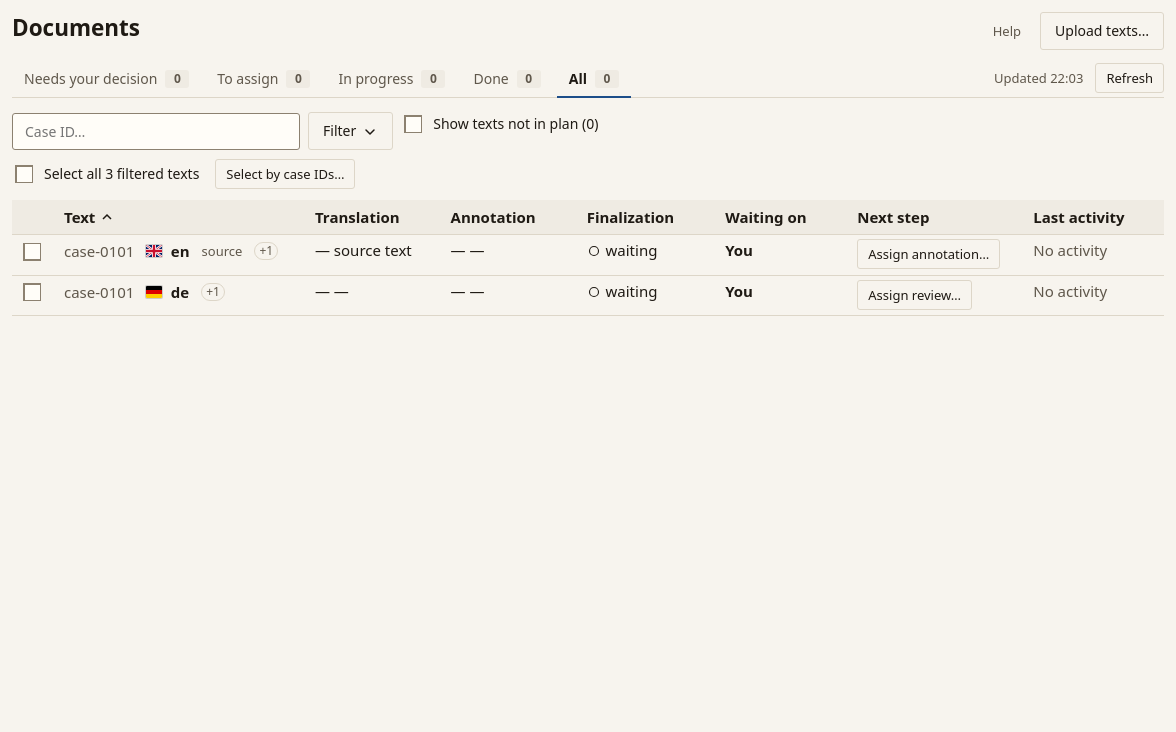
Scenario: case selection › no case checkboxes: texts not in plan are rows only with the switch, then selectable like any text
Click the checkbox named "Select case-0101 en" at (32, 252), box left=20, top=240, right=44, bottom=264
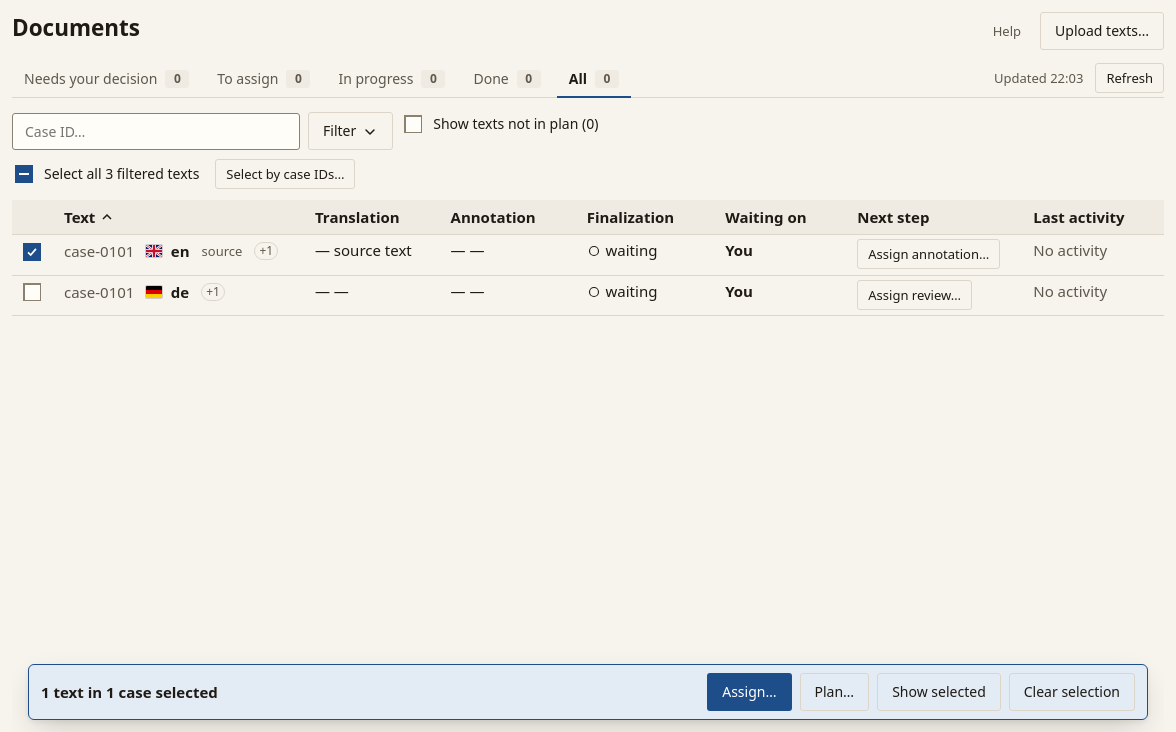
Click the checkbox named "Select case-0101 de" at (32, 292), box left=20, top=280, right=44, bottom=304
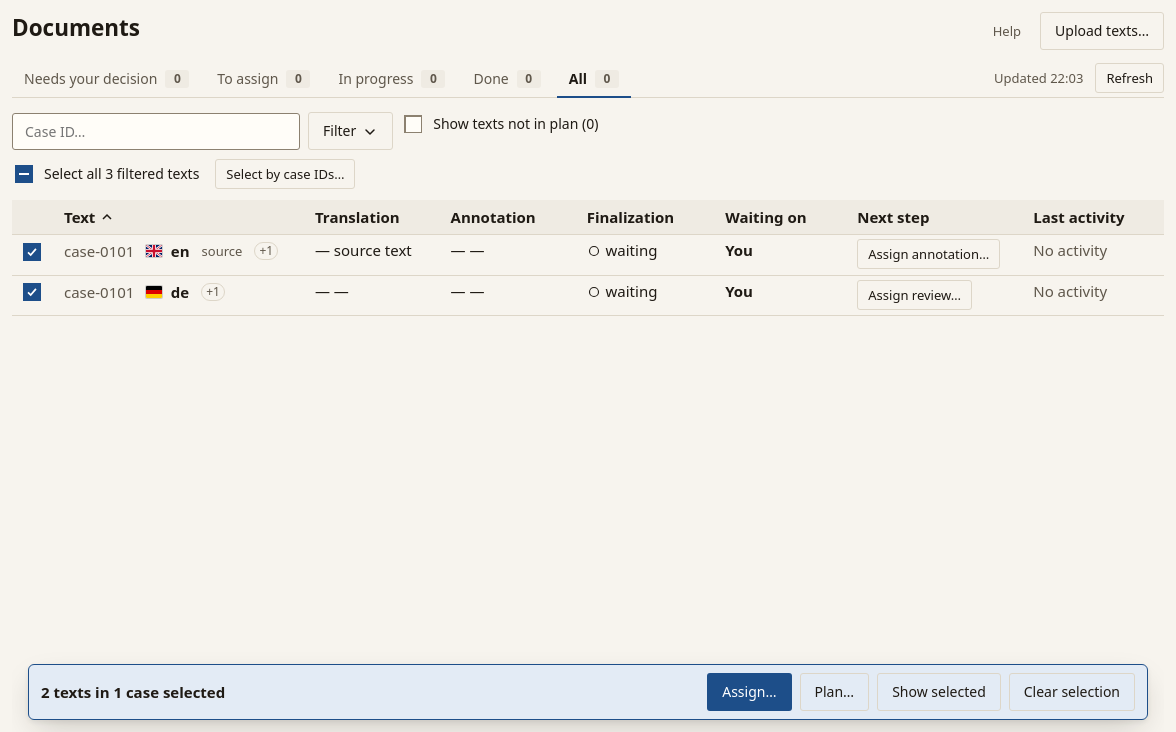
Check: the text "2 texts in 1 case selected" is shown, box left=41, top=682, right=225, bottom=702
Click the checkbox labelled "Show texts not in plan (0)" at (413, 124), box left=401, top=112, right=425, bottom=136
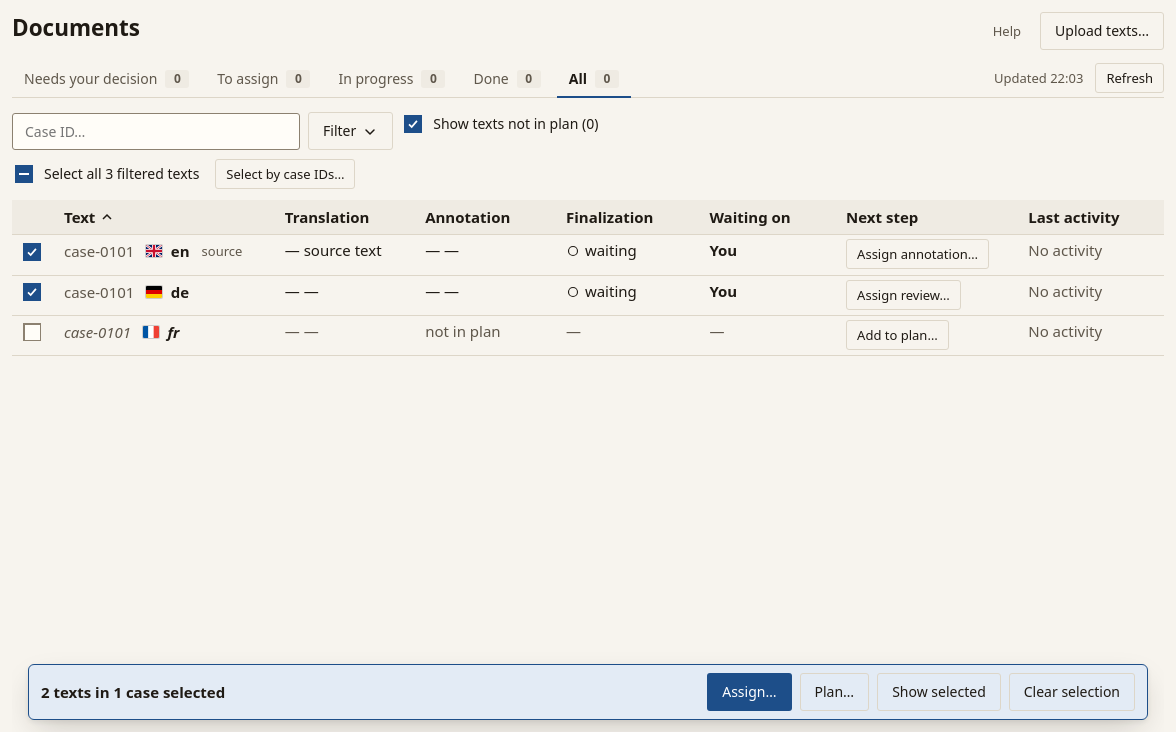
Click the checkbox named "Select case-0101 fr" at (32, 332), box left=20, top=320, right=44, bottom=344
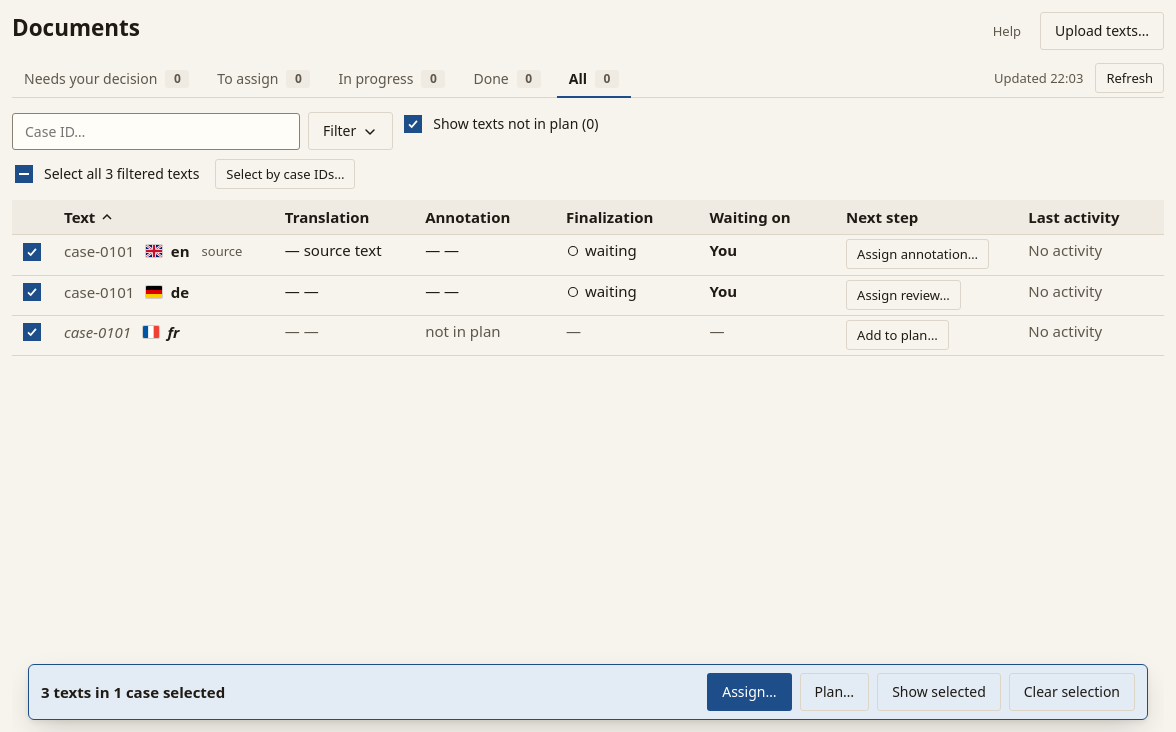
Check: the text "3 texts in 1 case selected" is shown, box left=41, top=682, right=225, bottom=702
